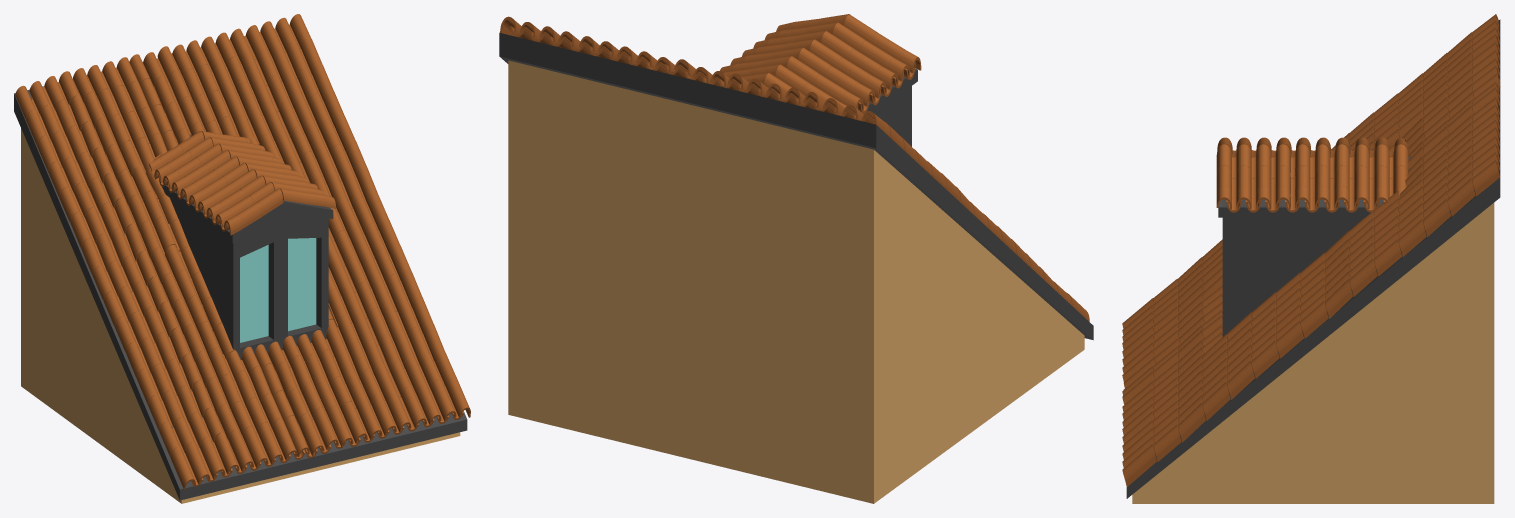
Rendered from Building Top.fbx.
3 renders of one model, left to right at view 1: azimuth 30°, elevation 25°; view 2: azimuth 150°, elevation 25°; view 3: azimuth 270°, elevation 25°, orthographic. The views are drawn at different scales.
Parts seen in each view (by area): view 1: Circle.024; view 2: Circle.024; view 3: Circle.024.
Boxes of the visible parts, x1=… form: Circle.024: x1=14, y1=14, x2=470, y2=503; Circle.024: x1=499, y1=14, x2=1093, y2=503; Circle.024: x1=1122, y1=14, x2=1500, y2=503.
Bounding box in the file's own units: 300 × 300 × 300.
